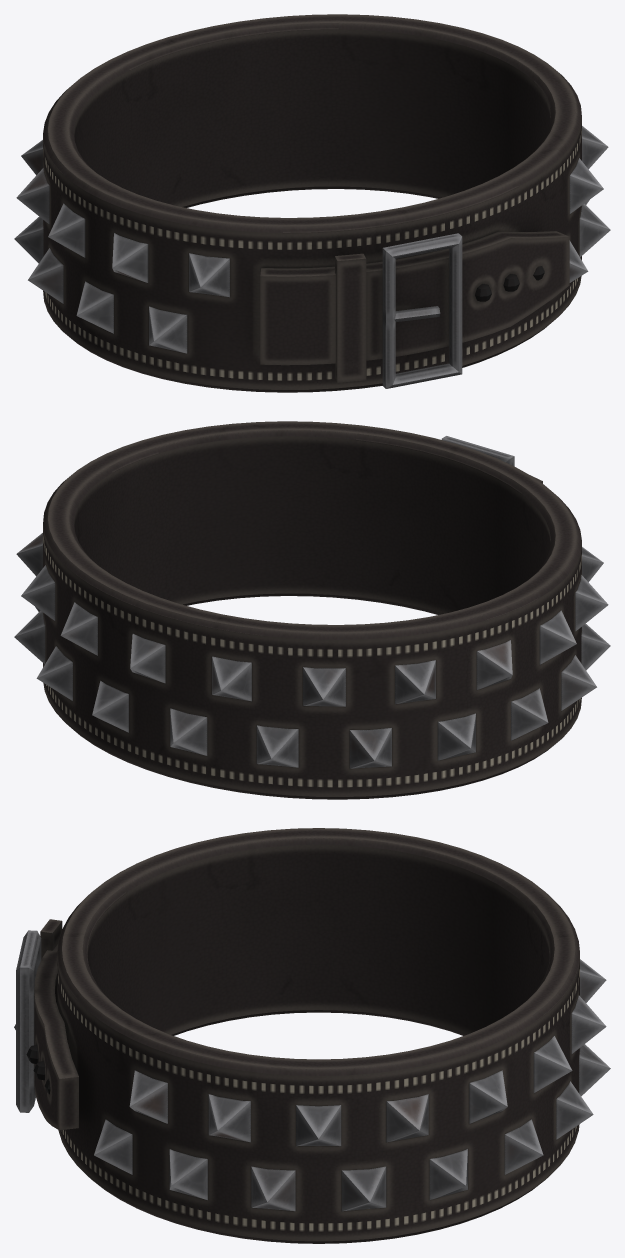
File: LostWristband.fbx
The picture shows the model from 3 angles, top to bottom: view 1: azimuth 30°, elevation 25°; view 2: azimuth 150°, elevation 25°; view 3: azimuth 270°, elevation 25°; orthographic projection. The views are drawn at different scales.
Visible parts, largest first — view 1: LostWristband; view 2: LostWristband; view 3: LostWristband.
Part boxes in pixels (x1,y1,x2,y2): LostWristband: (14, 14, 610, 392); LostWristband: (14, 421, 610, 799); LostWristband: (14, 828, 610, 1243).
Bounding box in the file's own units: 50 × 15 × 46.44.
